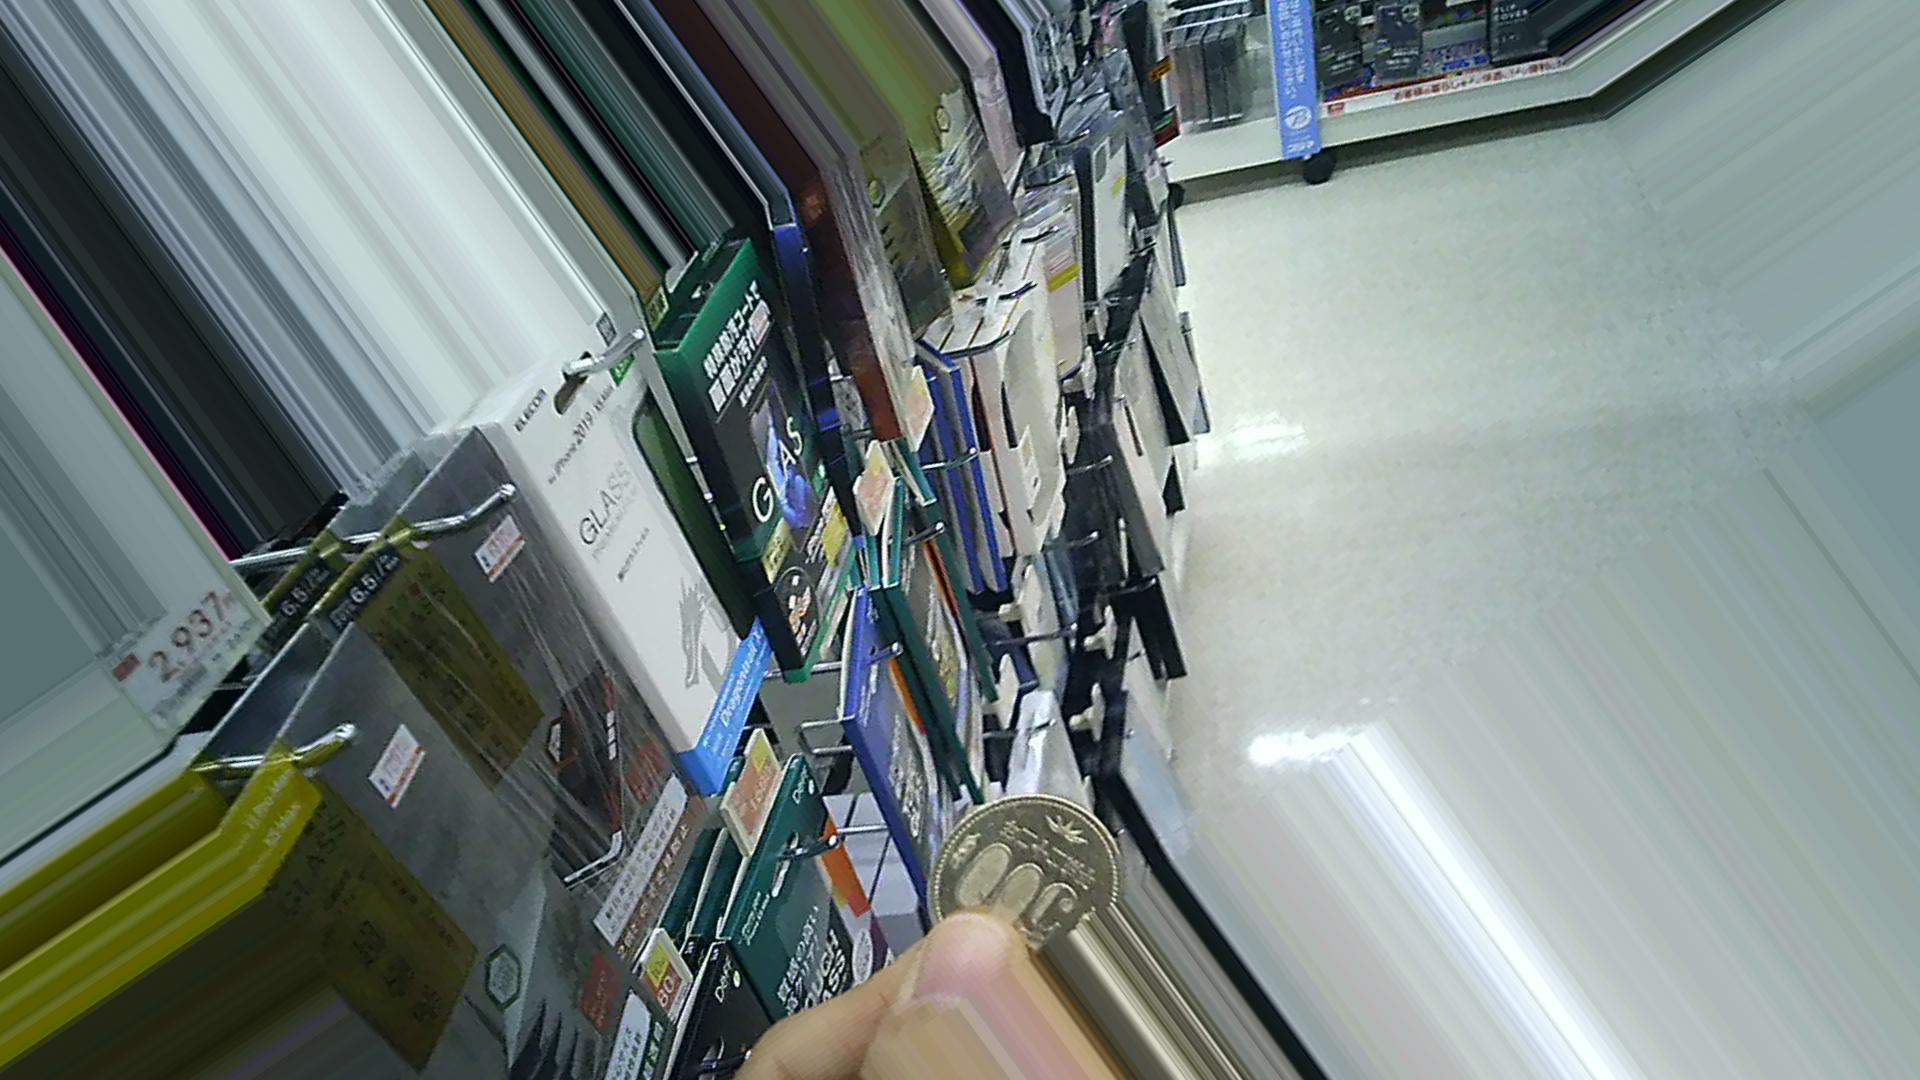500 Yen: (928, 790, 1143, 963)
